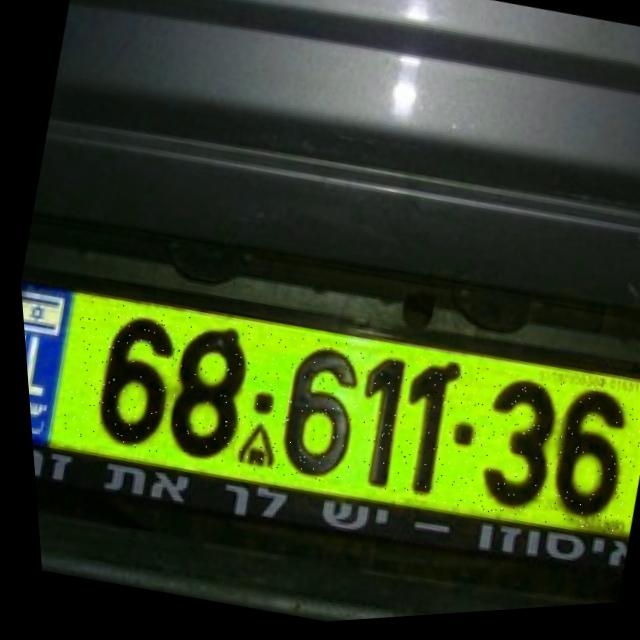license_plate: (44, 268, 640, 575)
